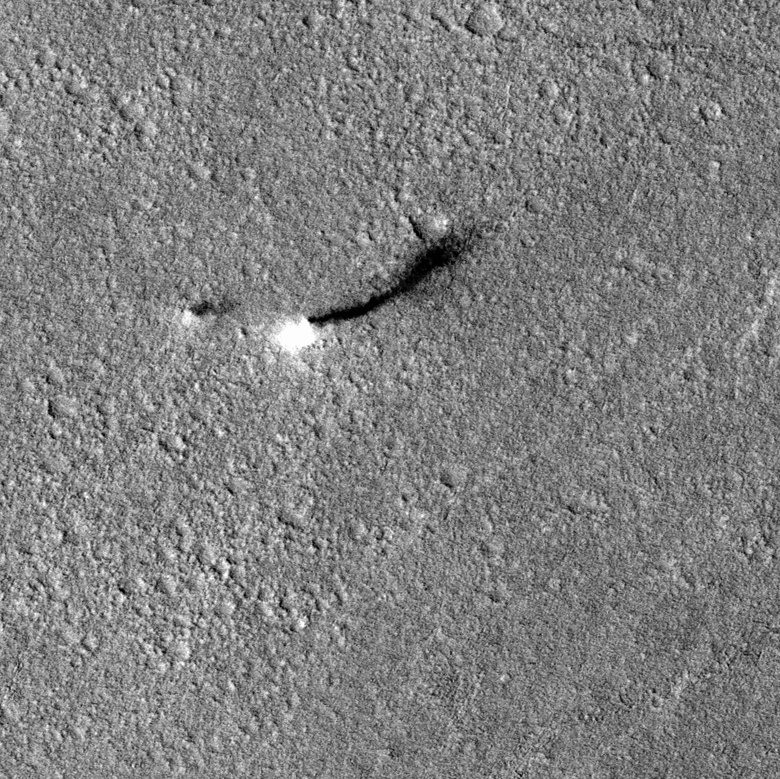dust_devil: (272, 221, 492, 356), (179, 293, 238, 330)
